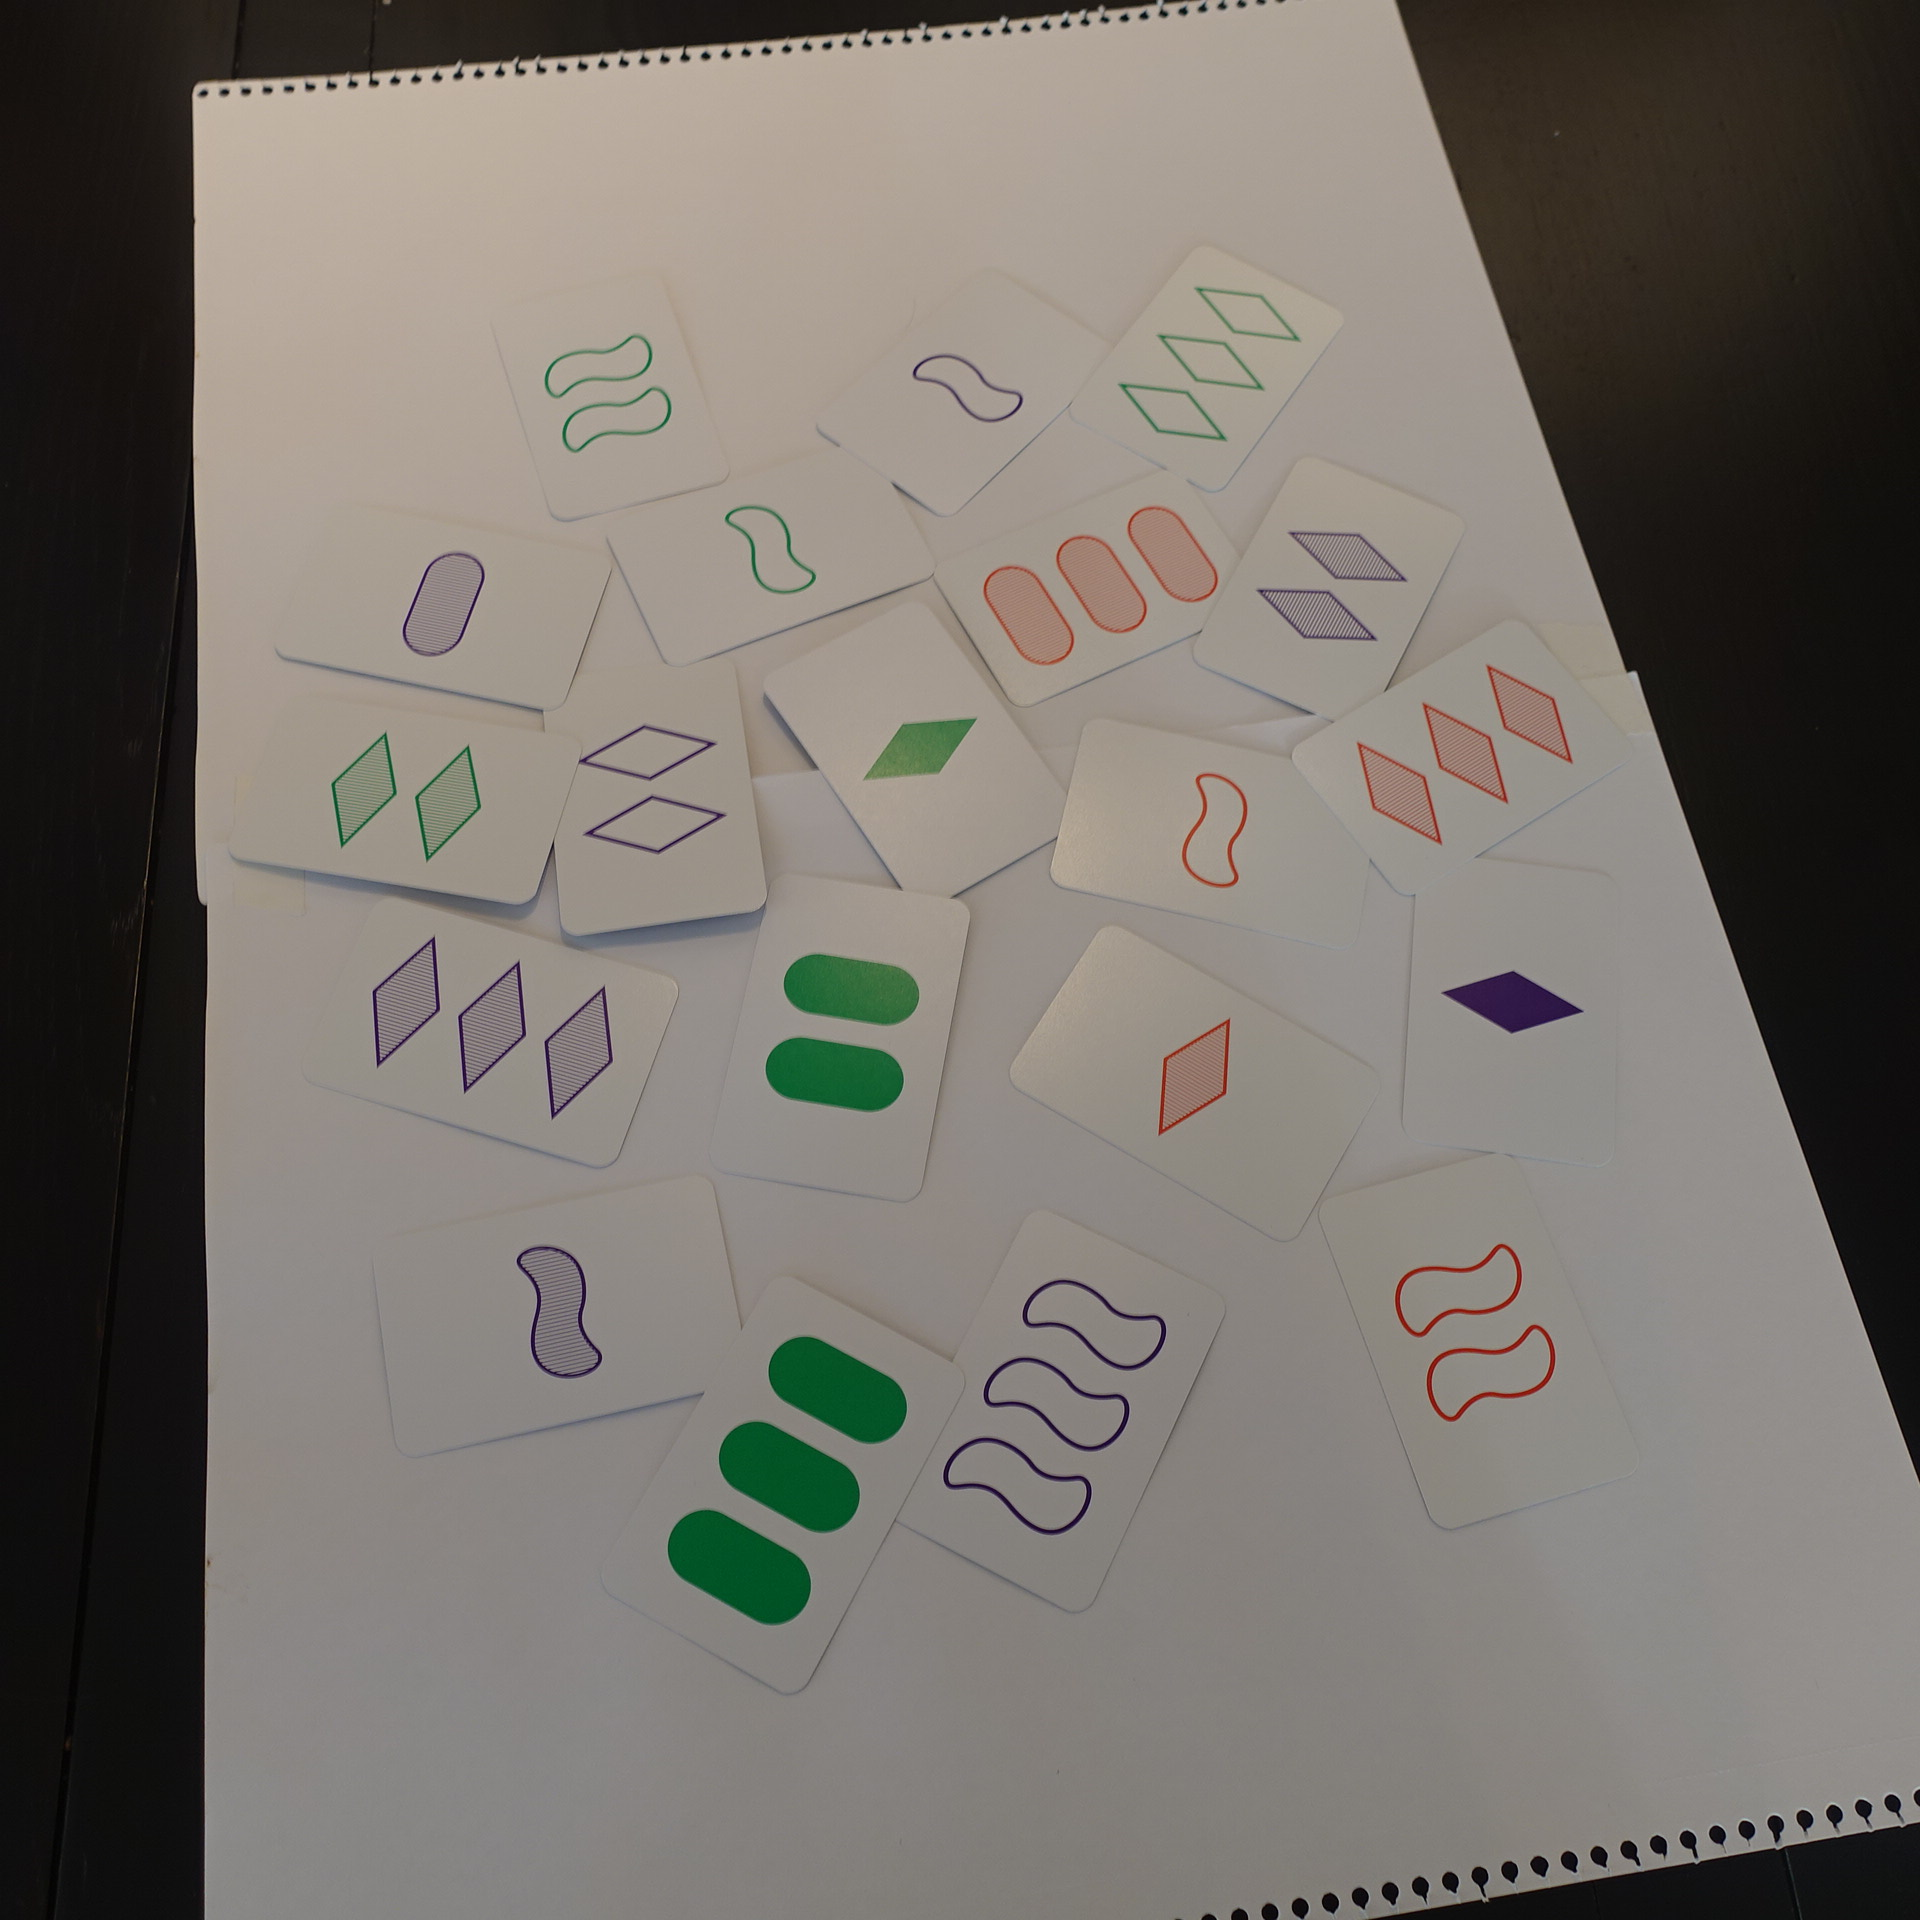c-1-f-d-g: (761, 591, 1080, 907), (1393, 844, 1646, 1190)
c-1-h-d-g: (1002, 920, 1389, 1254)
c-1-h-o-g: (260, 489, 624, 721)
c-1-h-s-g: (355, 1169, 758, 1473)
c-1-u-s-g: (1043, 710, 1387, 964), (804, 260, 1122, 526), (598, 441, 946, 677)
c-2-f-o-g: (693, 860, 985, 1215)
c-2-h-d-g: (220, 684, 591, 920), (1187, 454, 1480, 751)
c-2-u-d-g: (536, 658, 775, 955)
c-2-u-s-g: (1305, 1131, 1649, 1542), (475, 264, 740, 535)
c-3-f-o-g: (587, 1264, 972, 1707)
c-3-h-d-g: (280, 888, 687, 1180), (1278, 607, 1647, 902)
c-3-h-o-g: (921, 459, 1257, 719)
c-3-u-d-g: (1067, 232, 1356, 506)
c-3-u-s-g: (884, 1197, 1241, 1621)
